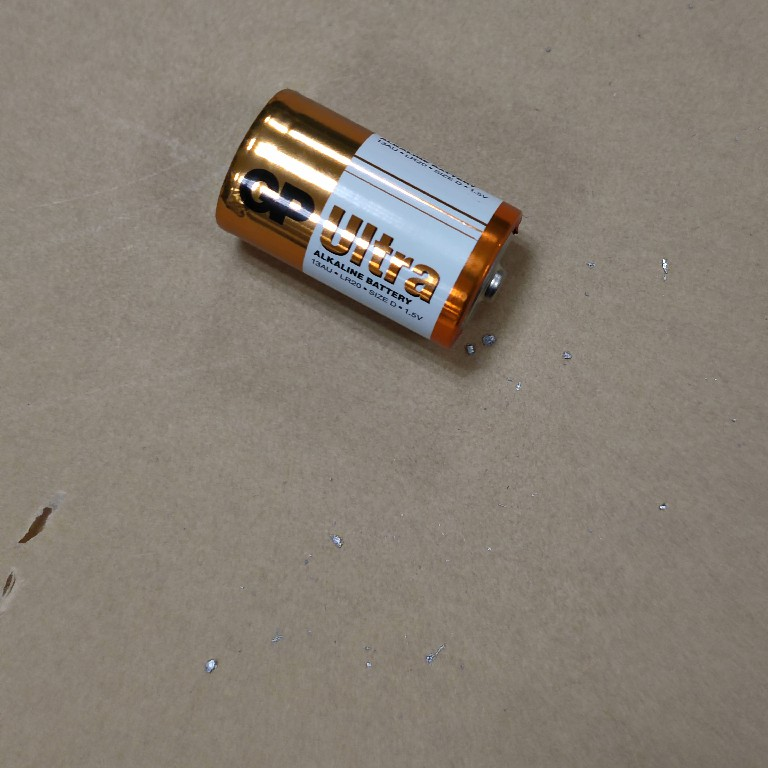charge: (209, 83, 531, 352)
